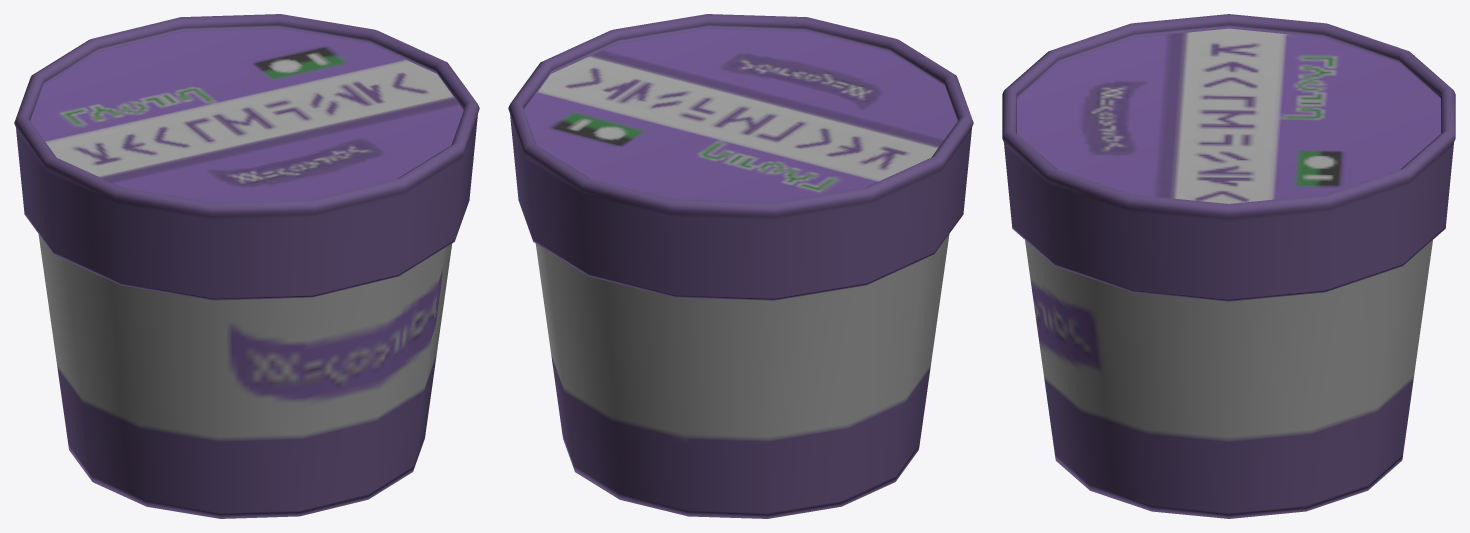
Rendered from pi_berryjam01.gltf.
3 views of the same model, side by side, from view 1: azimuth 30°, elevation 25°; view 2: azimuth 150°, elevation 25°; view 3: azimuth 270°, elevation 25° (orthographic).
Parts seen in each view (by area): view 1: um_pi_berryjam01_model_pi_berryjam01_modelShape:pi_berryjam0; view 2: um_pi_berryjam01_model_pi_berryjam01_modelShape:pi_berryjam0; view 3: um_pi_berryjam01_model_pi_berryjam01_modelShape:pi_berryjam0.
Part boxes in pixels (x1,y1,x2,y2): um_pi_berryjam01_model_pi_berryjam01_modelShape:pi_berryjam0: (14, 14, 479, 518); um_pi_berryjam01_model_pi_berryjam01_modelShape:pi_berryjam0: (508, 14, 973, 518); um_pi_berryjam01_model_pi_berryjam01_modelShape:pi_berryjam0: (1002, 14, 1455, 518).
Size of the model in its own units: 0.0995 by 0.079 by 0.097.
Materials: 2 (2 with a texture image).
